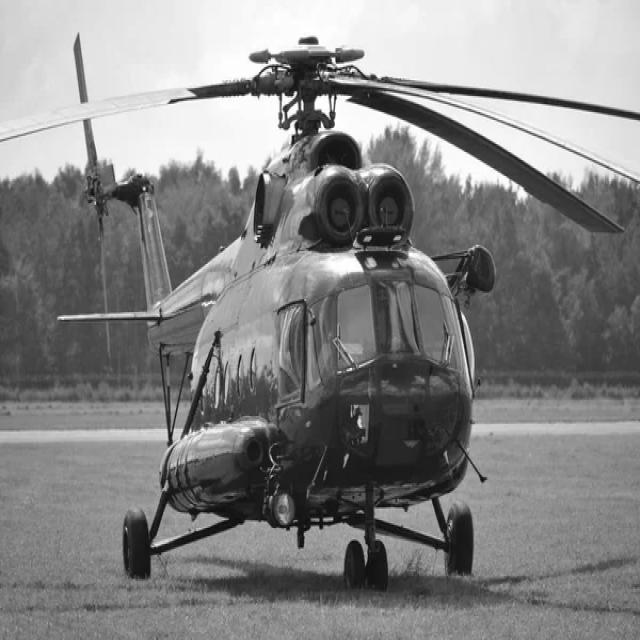Helicopter: (0, 36, 639, 591)
